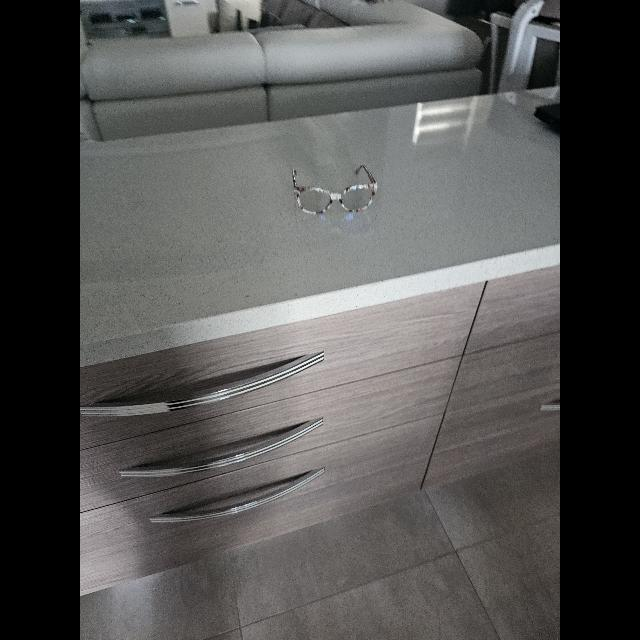glasses: (292, 164, 378, 214)
